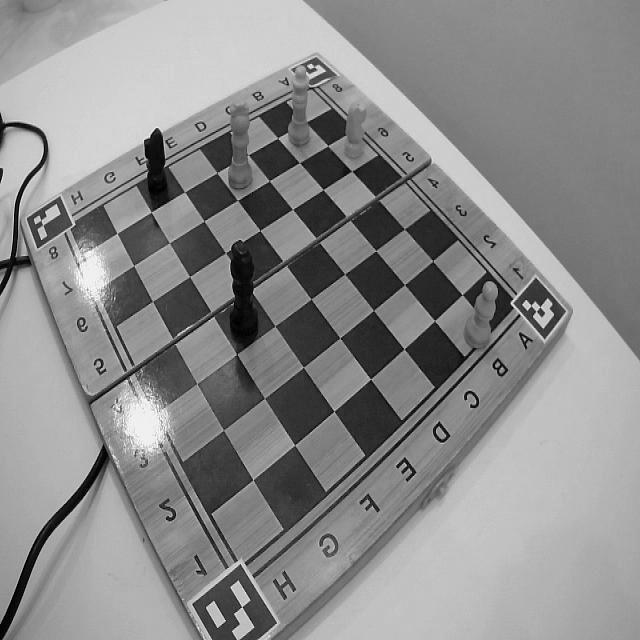chessboard: (63, 88, 517, 564)
